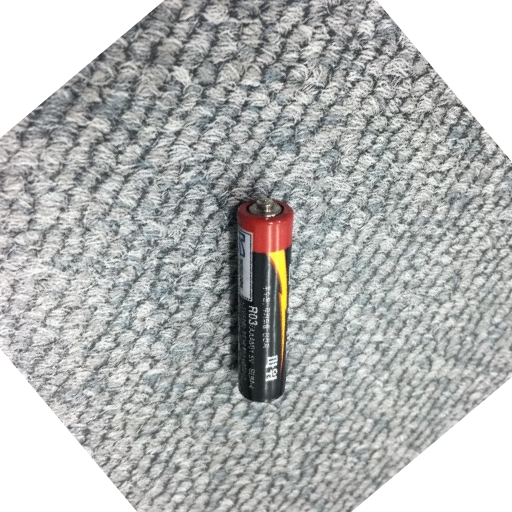Battery_0: (223, 188, 299, 409)
